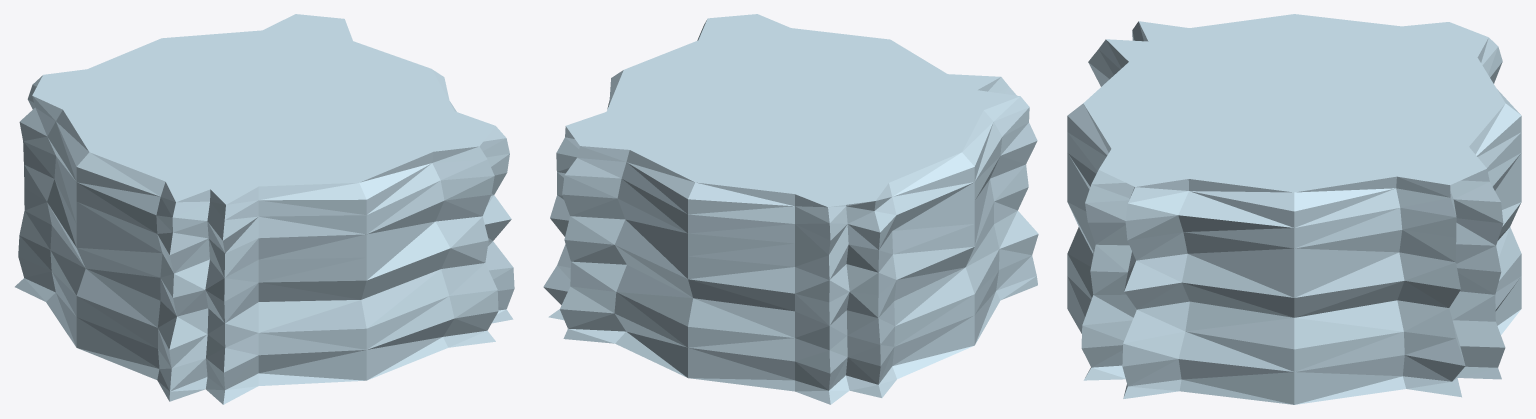
File: serac-3.glb
3 views of the same model, side by side, from view 1: azimuth 30°, elevation 25°; view 2: azimuth 150°, elevation 25°; view 3: azimuth 270°, elevation 25° (orthographic). The views are drawn at different scales.
Parts seen in each view (by area): view 1: serac-1003; view 2: serac-1003; view 3: serac-1003.
Part boxes in pixels (left/top/right/bottom): serac-1003: left=15, top=14, right=514, bottom=404; serac-1003: left=543, top=14, right=1038, bottom=404; serac-1003: left=1067, top=14, right=1521, bottom=404.
Bounding box in the file's own units: 2 × 1 × 2.
